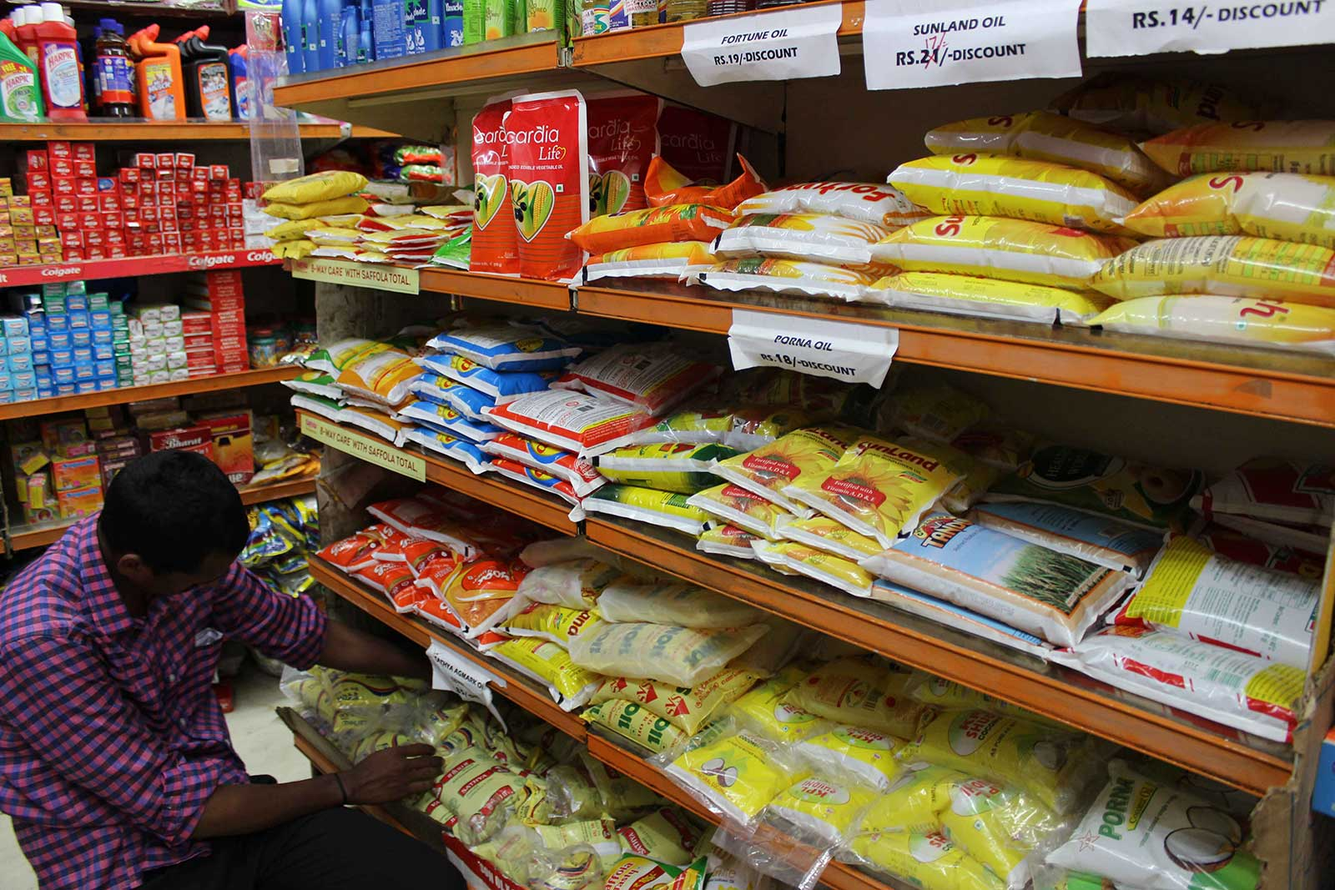other: (278, 0, 1334, 889), (0, 374, 321, 529)
